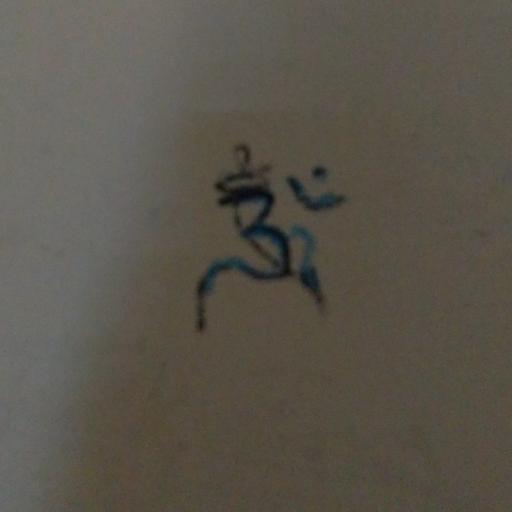stain: (185, 123, 361, 338)
